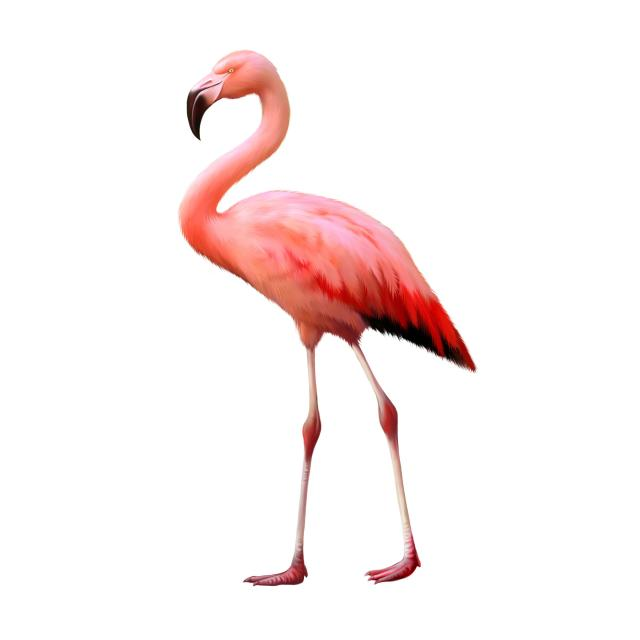Flamingo: (172, 47, 479, 593)
